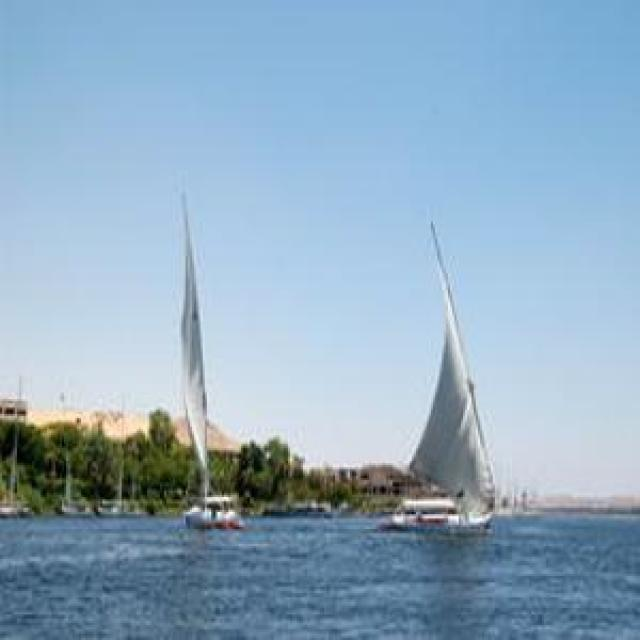sailboat: (387, 222, 504, 530), (162, 184, 258, 531)
